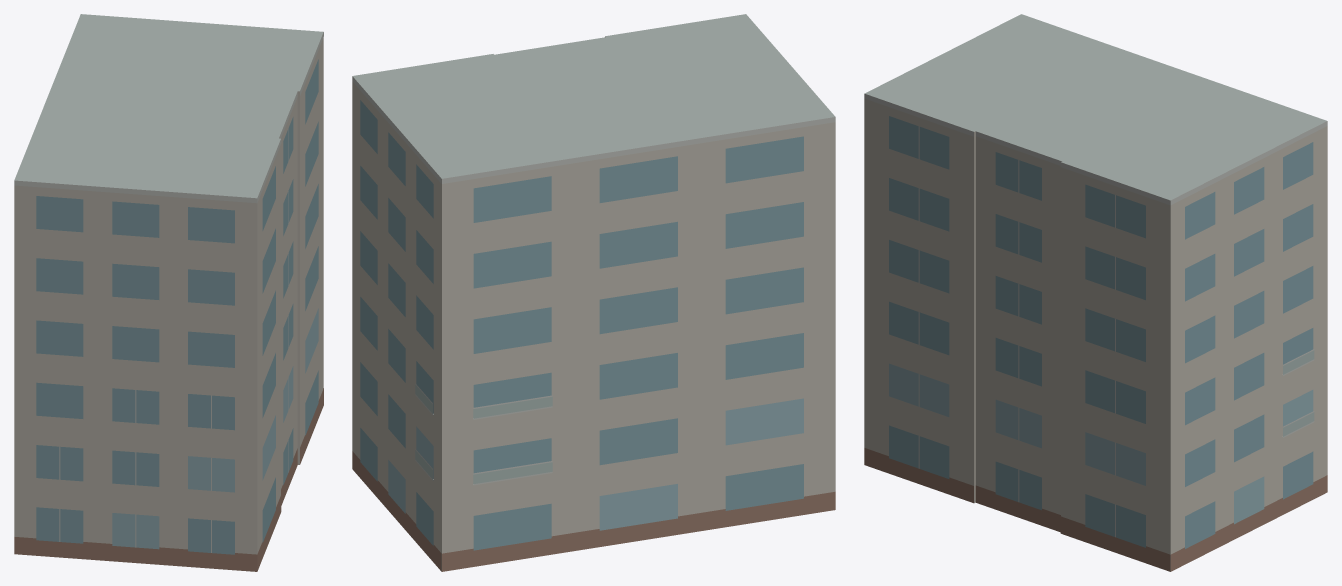
The model's file is survey-upis-32754219.glb.
3 views of the same model, side by side, from view 1: azimuth 30°, elevation 25°; view 2: azimuth 150°, elevation 25°; view 3: azimuth 270°, elevation 25° (orthographic). The views are drawn at different scales.
Parts seen in each view (by area): view 1: survey-upis-32754219.tmp; view 2: survey-upis-32754219.tmp; view 3: survey-upis-32754219.tmp.
Boxes of the visible parts, x1,y1,x2,y2 form: survey-upis-32754219.tmp: (14, 14, 323, 571); survey-upis-32754219.tmp: (352, 14, 835, 571); survey-upis-32754219.tmp: (864, 14, 1327, 571).
Bounding box in the file's own units: 19.71 × 18.3 × 20.69.
